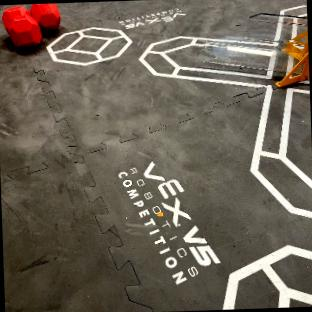V5_RED: (3, 3, 61, 47)
